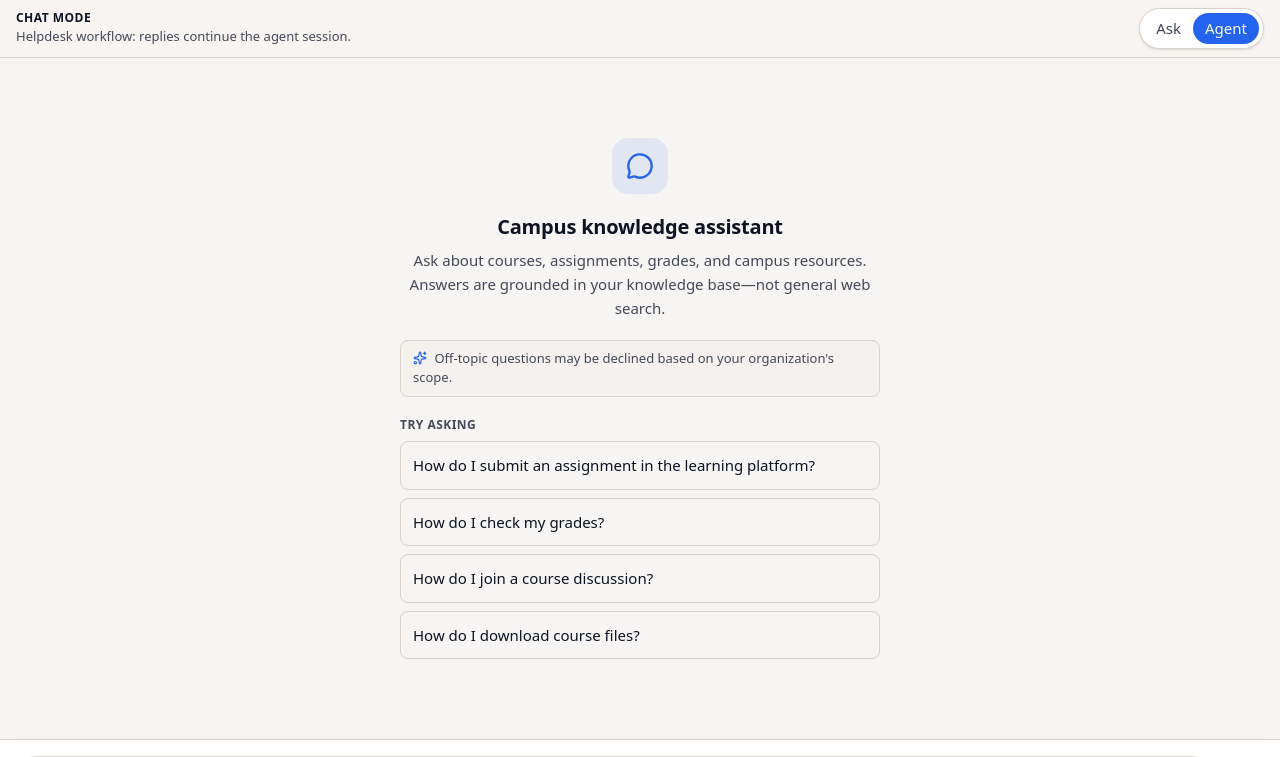
Test: ChatView agent mode › aborts the active agent session when switching back to ask mode
Click the switch named "toggle helpdesk agent mode": click(1202, 28) [1139, 8, 1264, 48]
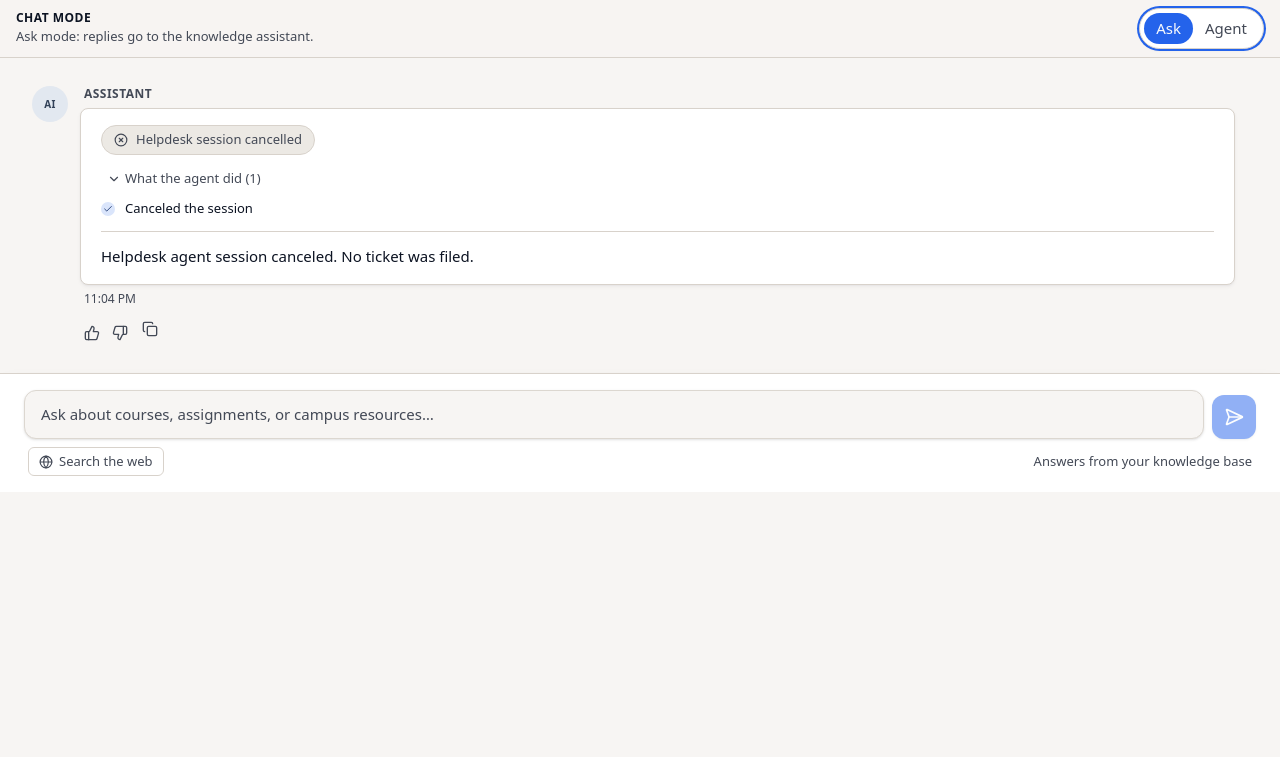
Now the text "Helpdesk agent session canceled. No ticket was filed." is shown, box [101, 246, 474, 266]
